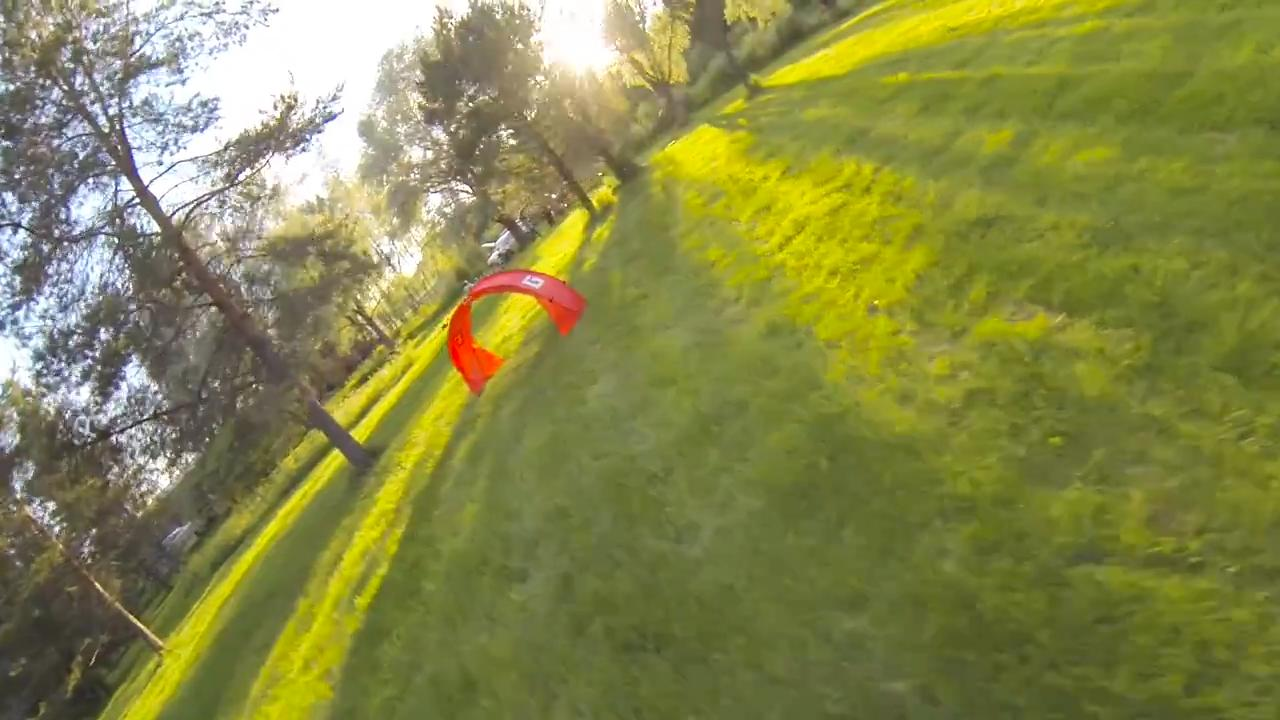gate: (443, 269, 593, 396)
